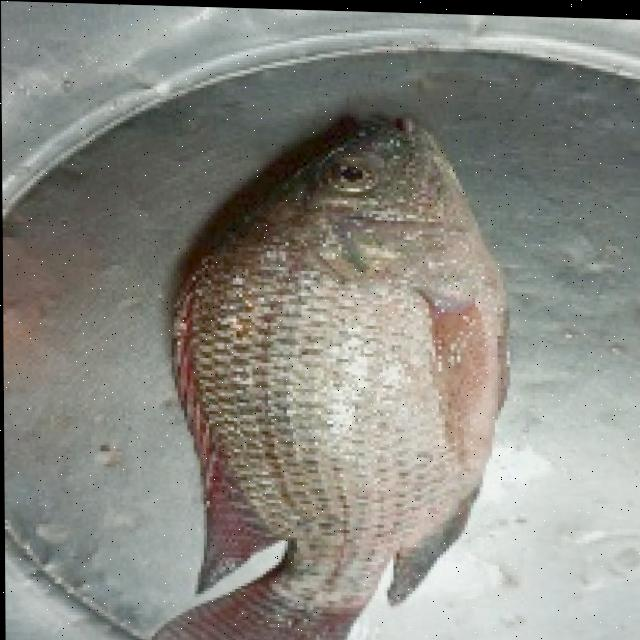Fresh: (137, 75, 547, 640)
